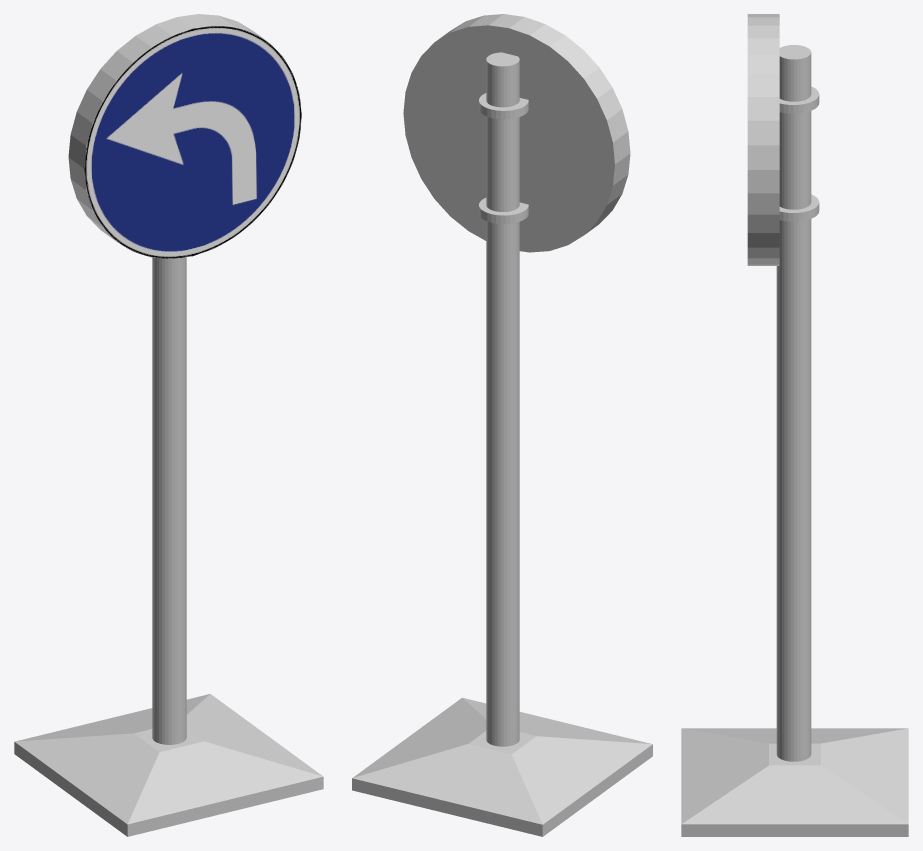
File: sola_don.dae
3 views of the same model, side by side, from view 1: azimuth 30°, elevation 25°; view 2: azimuth 150°, elevation 25°; view 3: azimuth 270°, elevation 25° (orthographic). The views are drawn at different scales.
Parts seen in each view (by area): view 1: Cylinder.001; view 2: Cylinder.001; view 3: Cylinder.001.
Boxes of the visible parts, box(x1,y1,x2,y2) form: Cylinder.001: box(14, 14, 323, 836); Cylinder.001: box(352, 14, 652, 836); Cylinder.001: box(681, 14, 908, 836).
Bounding box in the file's own units: 0.83 × 0.7483 × 2.77.
2 materials, 1 textured.
